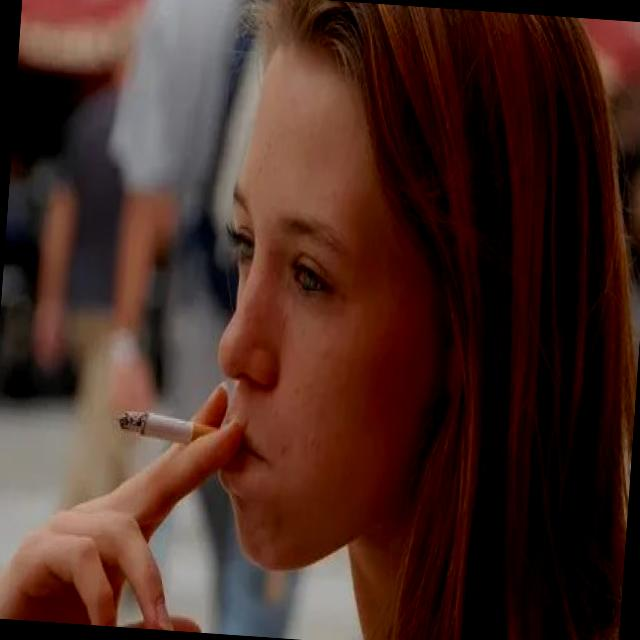cigarette: (112, 398, 228, 458)
